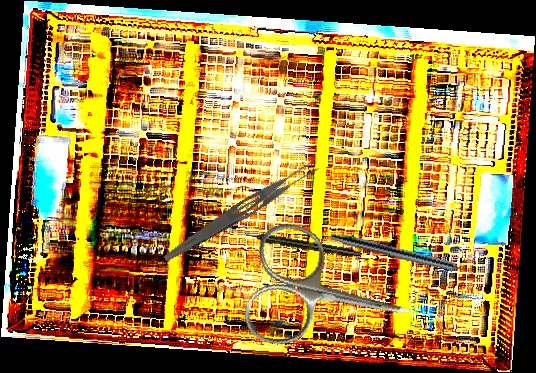Dressing Forceps: (161, 156, 321, 269)
Handpiece: (328, 230, 483, 282), (243, 229, 363, 260)
Iris Scissors: (238, 217, 425, 373)
